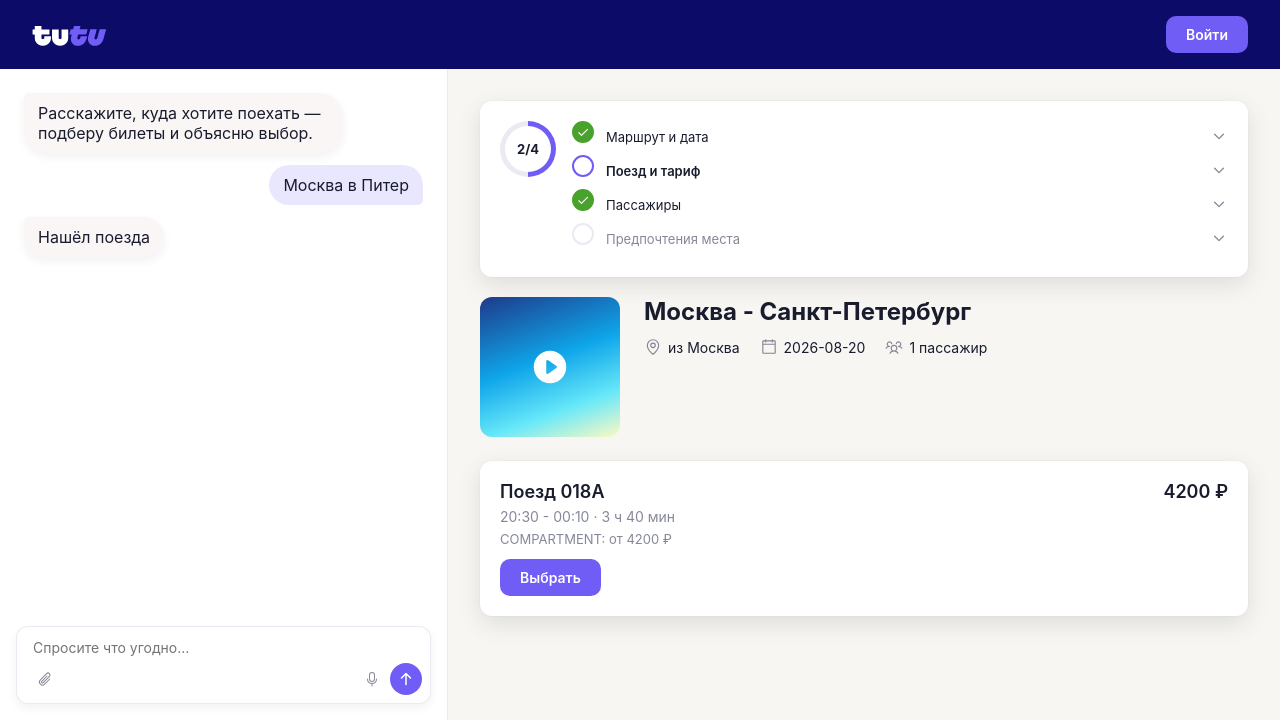
Test: TripPlan › sends the train selection when Выбрать is clicked
Expected: the text "Поезд 018А" is shown, x1=500 y1=481 x2=604 y2=502
What coordinates should you click on to do the following:
click the button "Выбрать"
I would click on:
 (550, 578)
Its box is x1=500 y1=559 x2=601 y2=596.
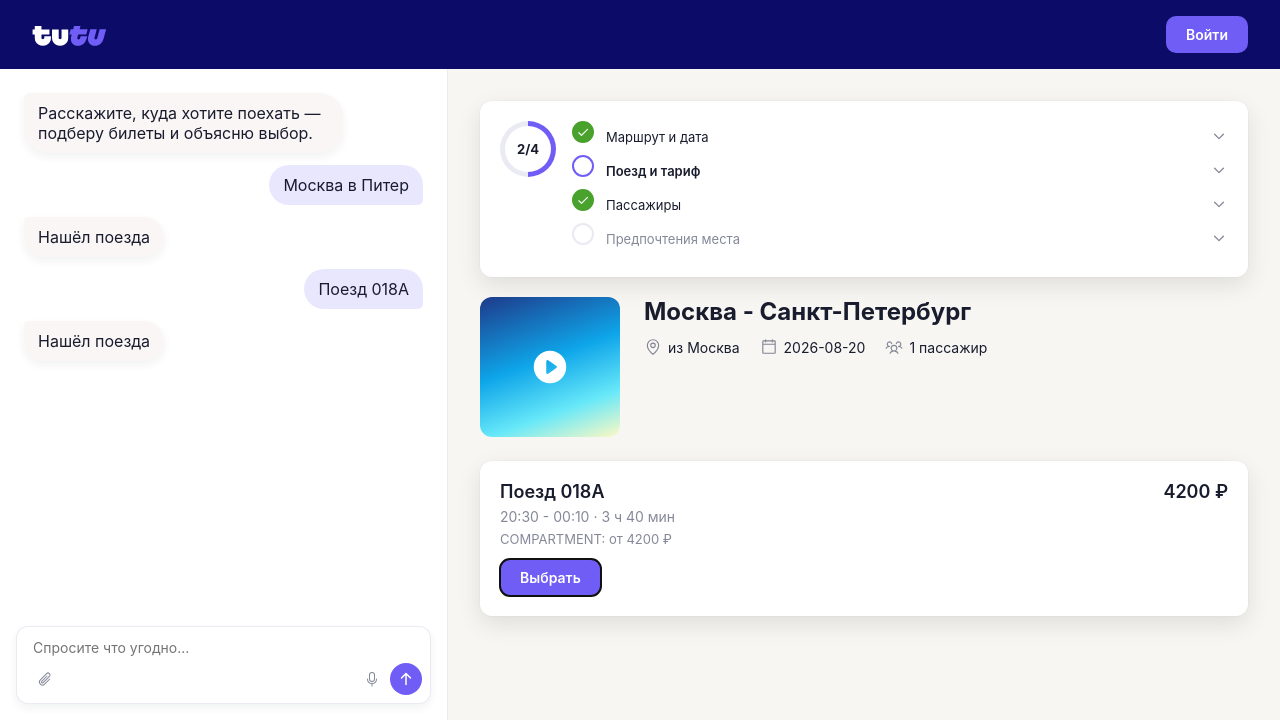
Result: the text "Поезд 018А" below "Москва в Питер" is shown at x1=318 y1=279 x2=409 y2=299
